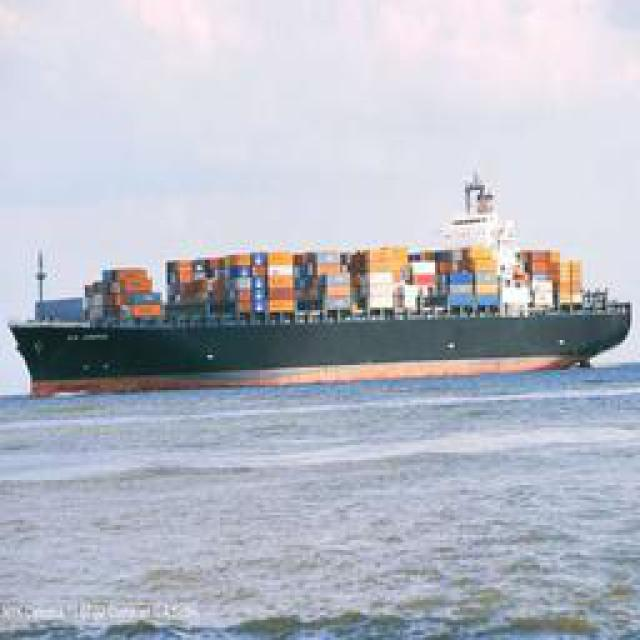Ship: (9, 181, 632, 391)
